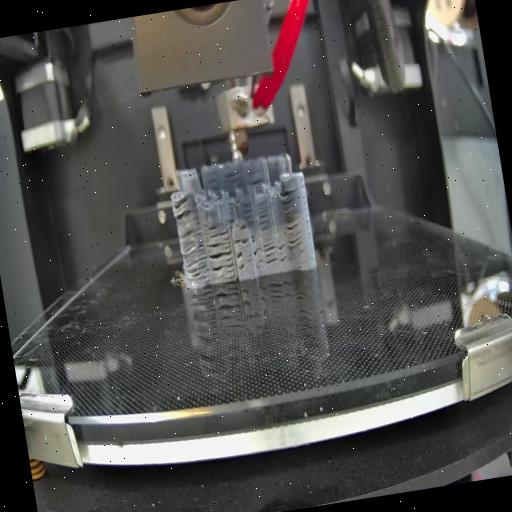cracks: (178, 227, 209, 283), (278, 188, 304, 248), (208, 241, 235, 277), (170, 194, 194, 220), (256, 200, 272, 232), (260, 240, 278, 268), (250, 236, 262, 268), (276, 240, 290, 266), (208, 223, 229, 240), (242, 201, 256, 226), (234, 250, 246, 274), (226, 169, 244, 185), (234, 234, 250, 249), (207, 176, 220, 194), (250, 176, 265, 186), (225, 216, 235, 224)
